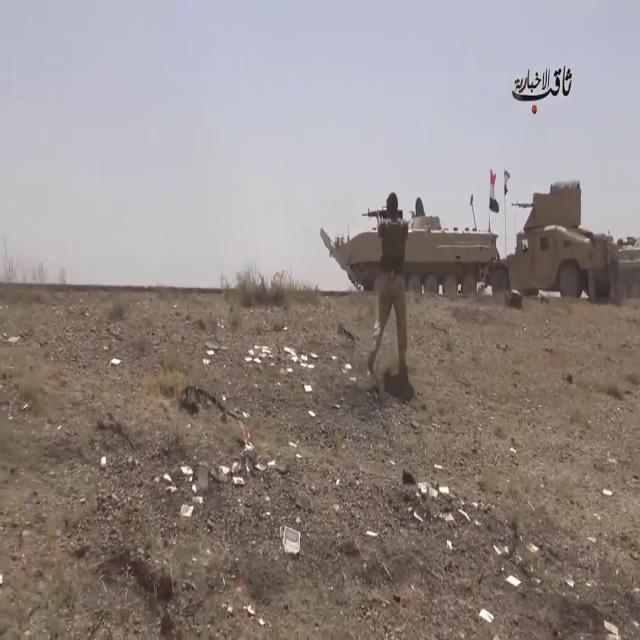long weapon: (357, 202, 407, 228)
